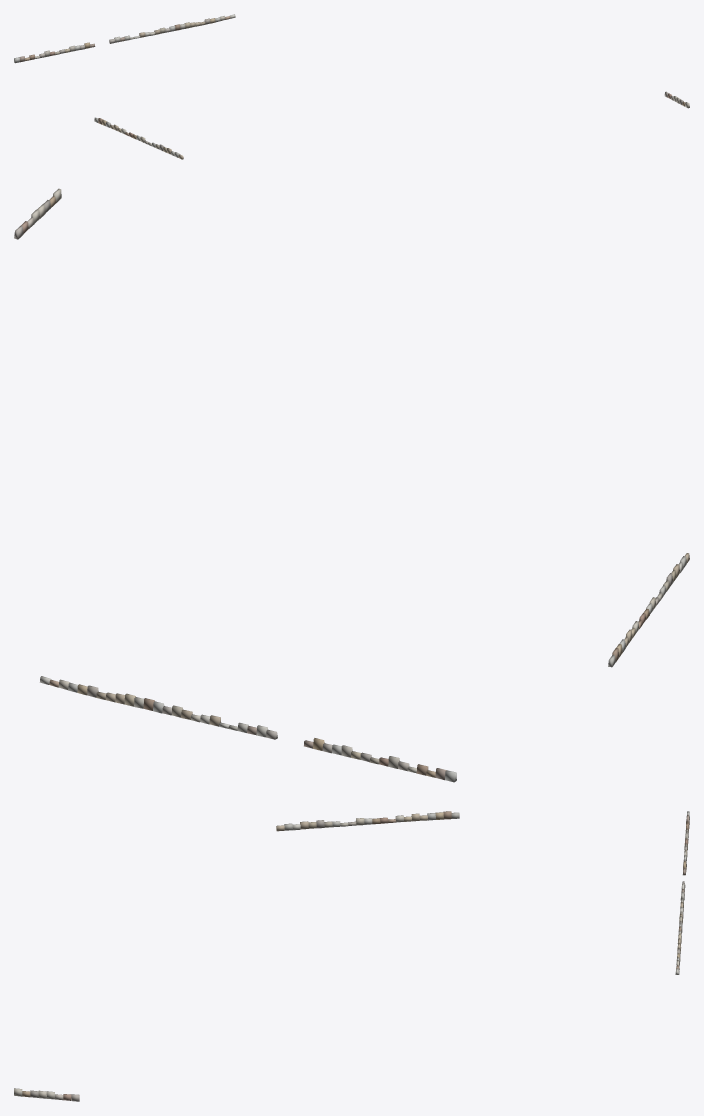
Rendered from farm_17_8_far.glb.
3 views of the same model, one above another, from view 1: azimuth 30°, elevation 25°; view 2: azimuth 150°, elevation 25°; view 3: azimuth 270°, elevation 25° (orthographic). The views are drawn at different scales.
Visible parts, largest first — view 1: geometry_0; view 2: geometry_0; view 3: geometry_0.
Part boxes in pixels (left/top/right/bottom): geometry_0: left=14, top=14, right=689, bottom=159; geometry_0: left=14, top=188, right=689, bottom=782; geometry_0: left=14, top=811, right=689, bottom=1101.
Size of the model in its own units: 141 by 9.02 by 131.
